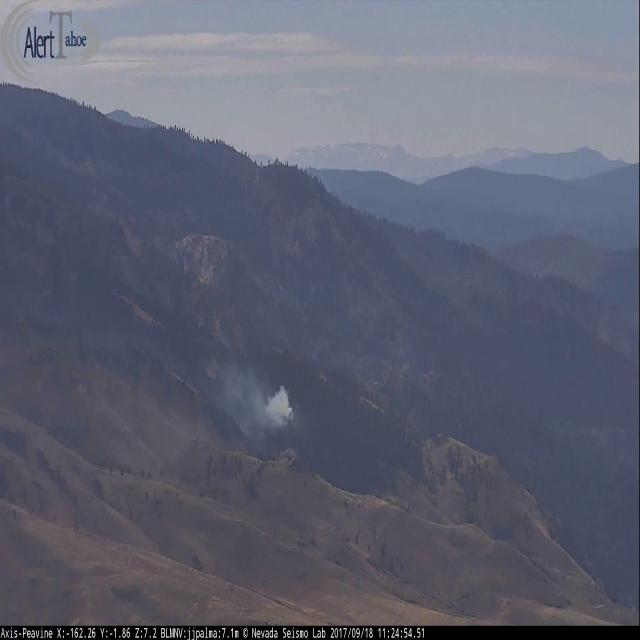smoke: (212, 356, 296, 434)
